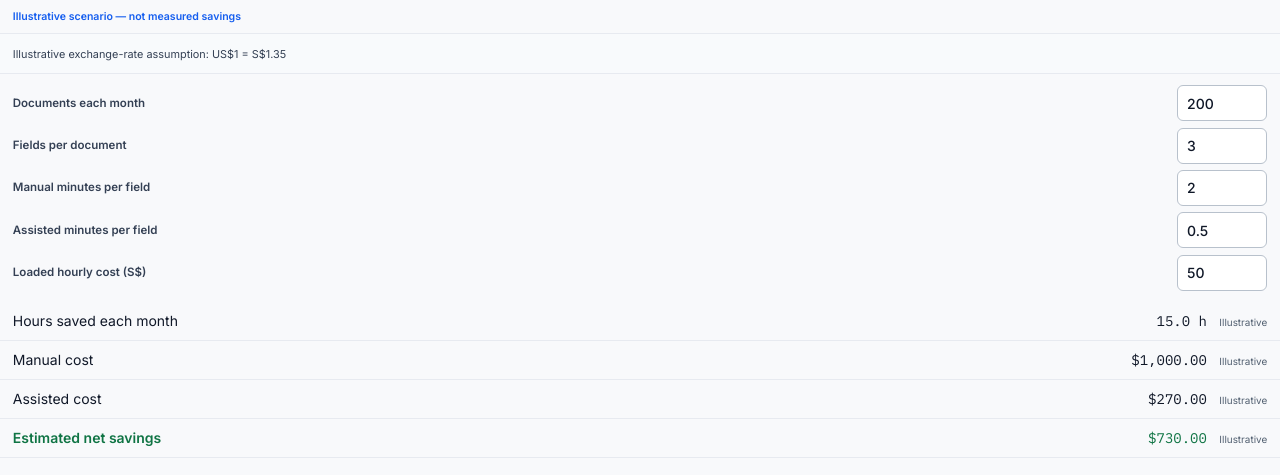
Scenario: Resource calculator › uses the pure formula after edits and keeps the illustrative label
This screenshot has width=1280, height=475.
Replace the text in the number field labelled "Documents each month" with "100": [1222, 103] box [1177,85,1267,121]
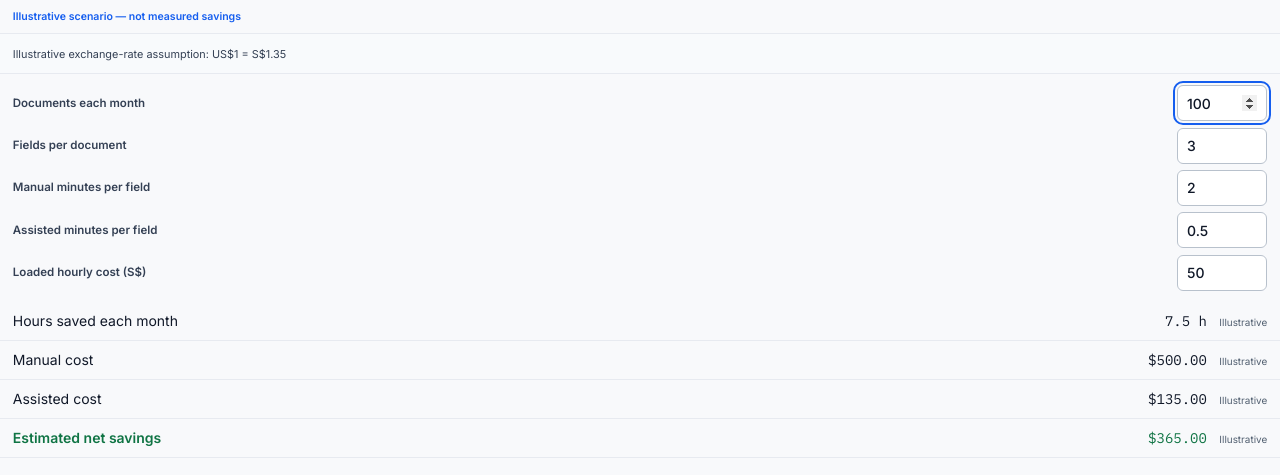
Expected: the text "Illustrative scenario — not measured savings" is shown, [0,0,1279,34]
Expected: the text "7.5 h Illustrative" is shown, [1165,311,1267,332]
